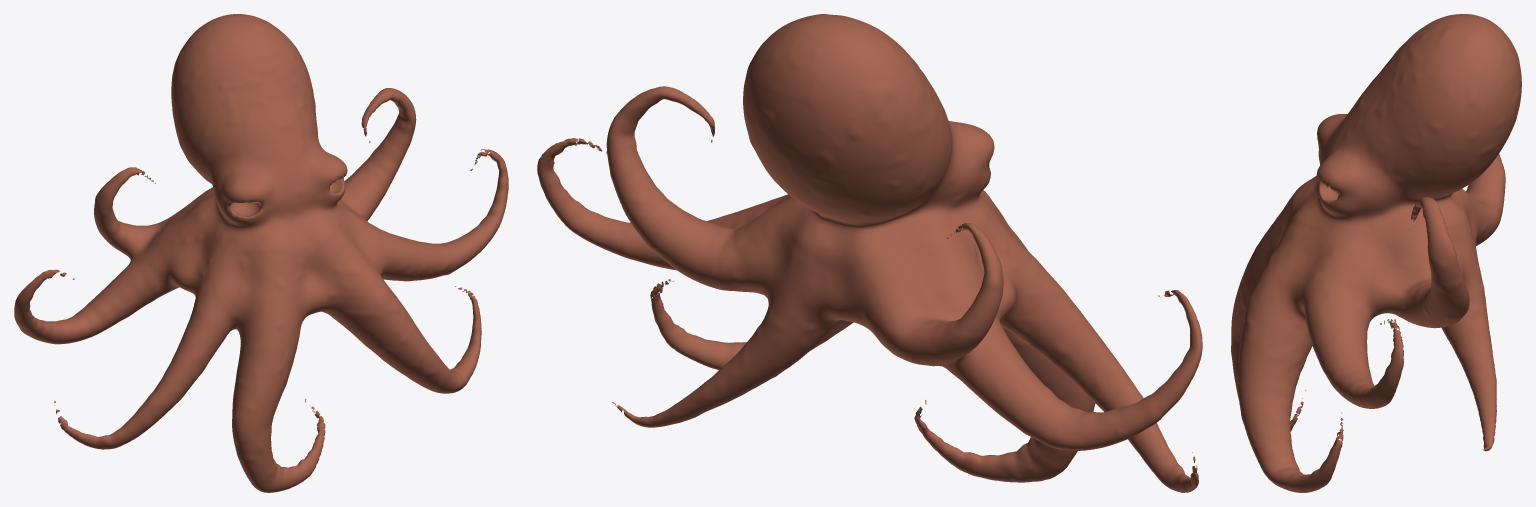
File: octopus-skin-study.glb
3 views of the same model, side by side, from view 1: azimuth 30°, elevation 25°; view 2: azimuth 150°, elevation 25°; view 3: azimuth 270°, elevation 25° (orthographic). The views are drawn at different scales.
Visible parts, largest first — view 1: Codera octopus — sculpted skin; view 2: Codera octopus — sculpted skin; view 3: Codera octopus — sculpted skin.
Part boxes in pixels (x1,y1,x2,y2): Codera octopus — sculpted skin: (14,14,508,492); Codera octopus — sculpted skin: (537,14,1202,492); Codera octopus — sculpted skin: (1231,14,1521,492).
Bounding box in the file's own units: 5.65 × 4.35 × 2.6.
